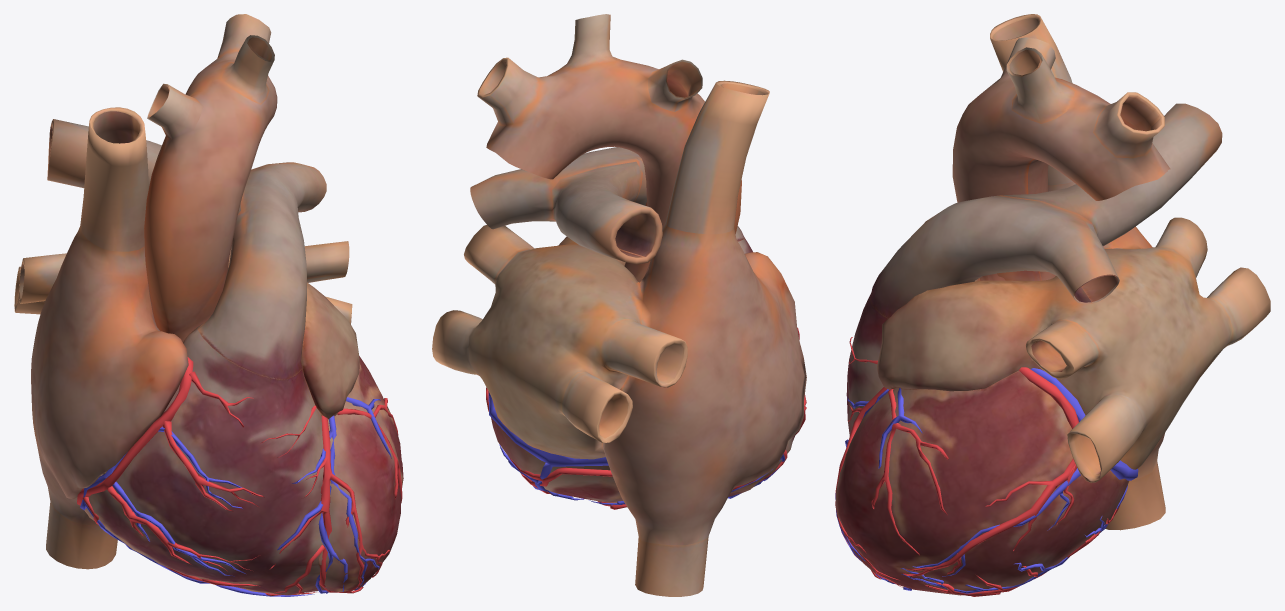
Rendered from heart.glb.
The picture shows the model from 3 angles, left to right: view 1: azimuth 30°, elevation 25°; view 2: azimuth 150°, elevation 25°; view 3: azimuth 270°, elevation 25°; orthographic projection. The views are drawn at different scales.
Parts seen in each view (by area): view 1: Heart_Unified; view 2: Heart_Unified; view 3: Heart_Unified.
Part boxes in pixels (x1,y1,x2,y2): Heart_Unified: (14, 14, 403, 596); Heart_Unified: (432, 14, 806, 596); Heart_Unified: (835, 14, 1270, 596).
Bounding box in the file's own units: 5.99 × 9.18 × 6.84.
Materials: 10 (10 with a texture image).
